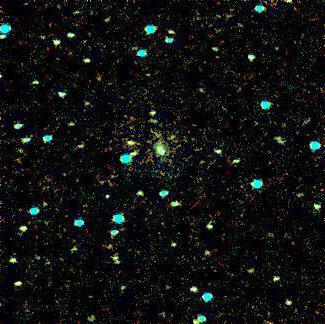star: (159, 121, 189, 151)
